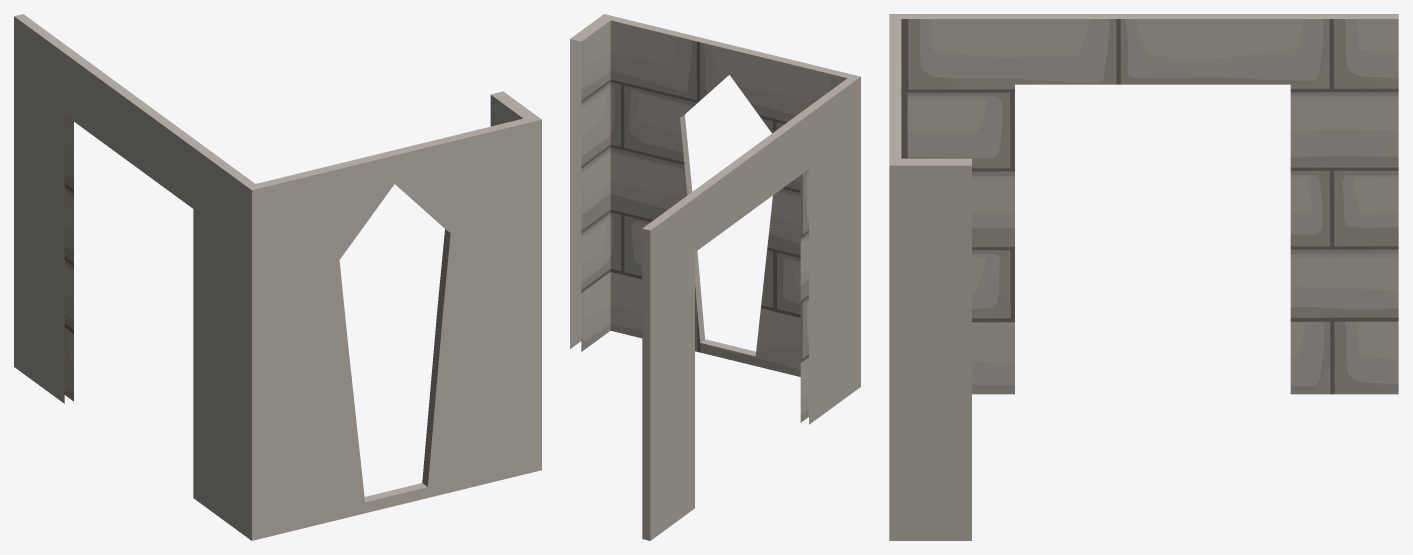
Rendered from SM_wallend.fbx.
The picture shows the model from 3 angles, left to right: view 1: azimuth 30°, elevation 25°; view 2: azimuth 150°, elevation 25°; view 3: azimuth 270°, elevation 25°; orthographic projection. The views are drawn at different scales.
Visible parts, largest first — view 1: SM_Wallend; view 2: SM_Wallend; view 3: SM_Wallend.
Boxes of the visible parts, x1,y1,x2,y2 form: SM_Wallend: [14, 14, 541, 540]; SM_Wallend: [570, 14, 860, 540]; SM_Wallend: [889, 14, 1398, 540].
Bounding box in the file's own units: 865 × 1000 × 1229.
